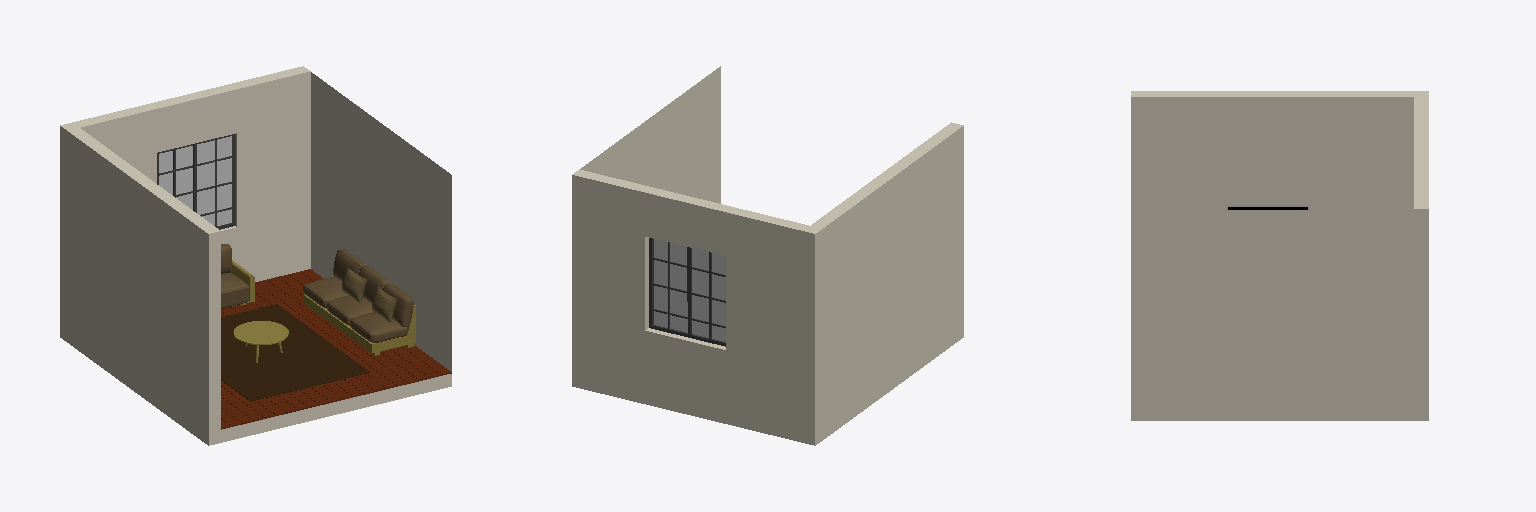
The model's file is room.obj.
3 views of the same model, side by side, from view 1: azimuth 30°, elevation 25°; view 2: azimuth 150°, elevation 25°; view 3: azimuth 270°, elevation 25° (orthographic).
Visible parts, largest first — view 1: Cube, Piso, Tapete, Sofá, janela, poltrona, Mesinha_de_centro, Almofadas; view 2: Cube, janela; view 3: Cube.
Boxes of the visible parts, <box> form: Cube: <box>60,66,451,445</box>; Piso: <box>221,269,451,429</box>; Tapete: <box>221,304,369,401</box>; Sofá: <box>303,249,415,355</box>; janela: <box>157,134,235,229</box>; poltrona: <box>221,244,254,308</box>; Mesinha_de_centro: <box>233,321,288,362</box>; Almofadas: <box>342,268,396,322</box>; Cube: <box>572,66,963,445</box>; janela: <box>649,238,725,346</box>; Cube: <box>1131,91,1428,420</box>.
Size of the model in its own units: 4.45 by 3.7 by 4.71.